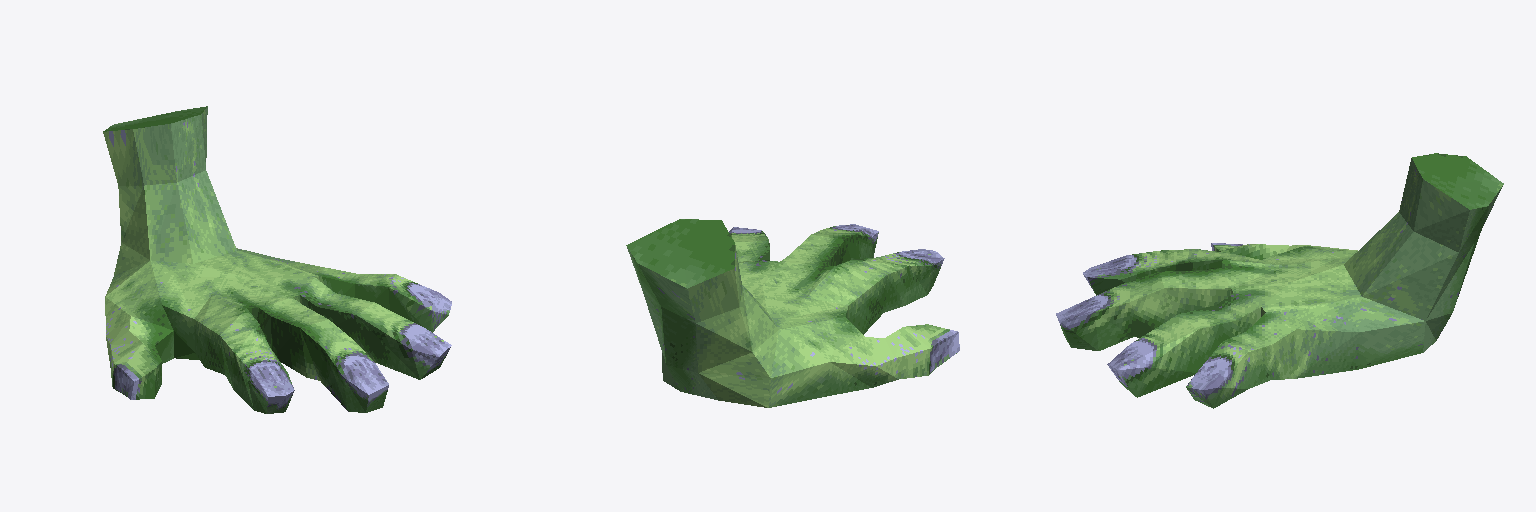
3 views of the same model, side by side, from view 1: azimuth 30°, elevation 25°; view 2: azimuth 150°, elevation 25°; view 3: azimuth 270°, elevation 25° (orthographic).
Parts seen in each view (by area): view 1: Hand; view 2: Hand; view 3: Hand.
Boxes of the visible parts, <box> form: Hand: <box>103,106,451,413</box>; Hand: <box>626,219,959,407</box>; Hand: <box>1056,153,1503,408</box>.
Bounding box in the file's own units: 38.8 × 20.79 × 47.48.
Materials: 1 (1 with a texture image).